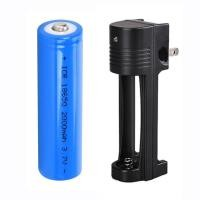Battery: (35, 17, 85, 183)
